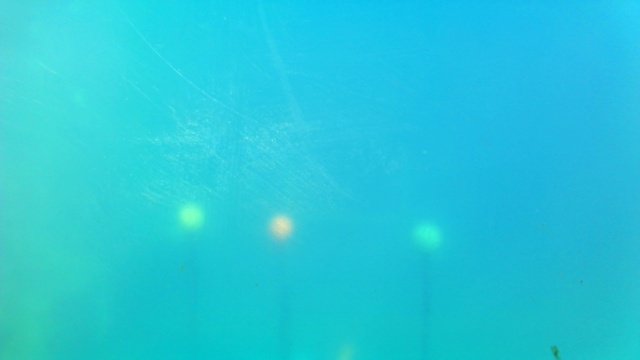buoy_red: (268, 216, 290, 237)
